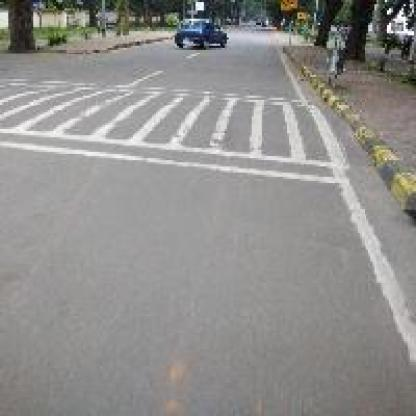Speed Bump: (0, 71, 337, 187)
